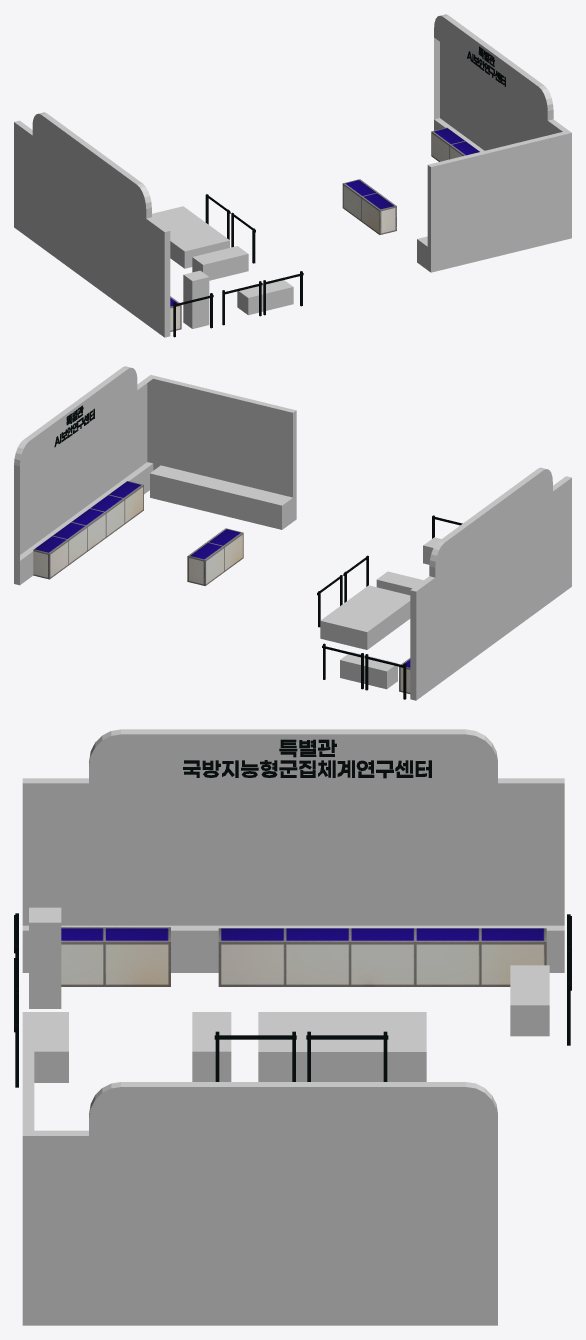
File: Special_Booth.glb
3 renders of one model, top to bottom at view 1: azimuth 30°, elevation 25°; view 2: azimuth 150°, elevation 25°; view 3: azimuth 270°, elevation 25°, orthographic. The views are drawn at different scales.
Visible parts, largest first — view 1: Special; view 2: Special; view 3: Special.
Part boxes in pixels (left/top/right/bottom): Special: left=14, top=14, right=571, bottom=337; Special: left=14, top=366, right=571, bottom=700; Special: left=14, top=729, right=571, bottom=1325.
Size of the model in its own units: 12.86 by 4 by 8.48.
Materials: 3 (1 with a texture image).
